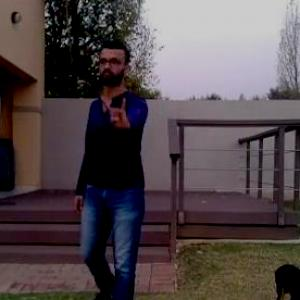takeoff-hand: (99, 87, 134, 133)
